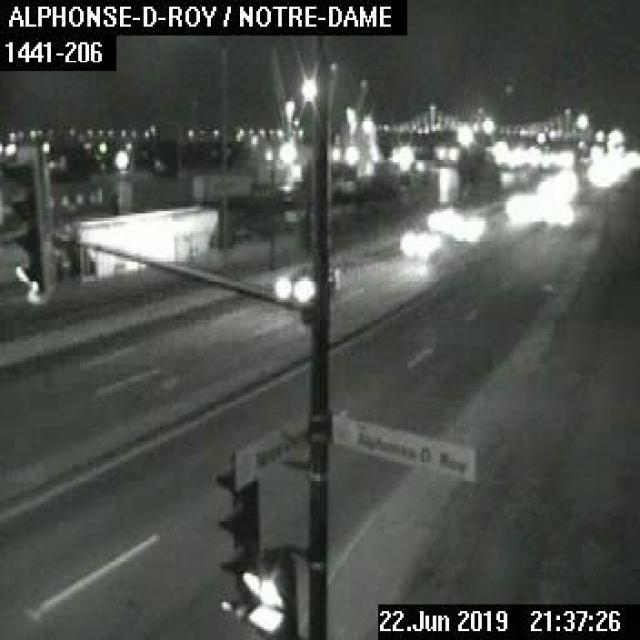vehicle: (278, 255, 343, 300), (397, 226, 433, 257)
